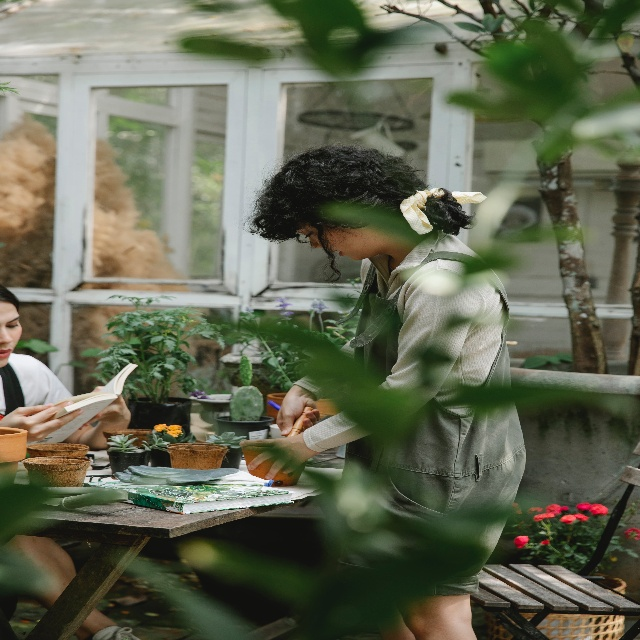Sin_guantes: (0, 398, 83, 443), (239, 435, 317, 480), (78, 386, 128, 430), (276, 388, 320, 437)
